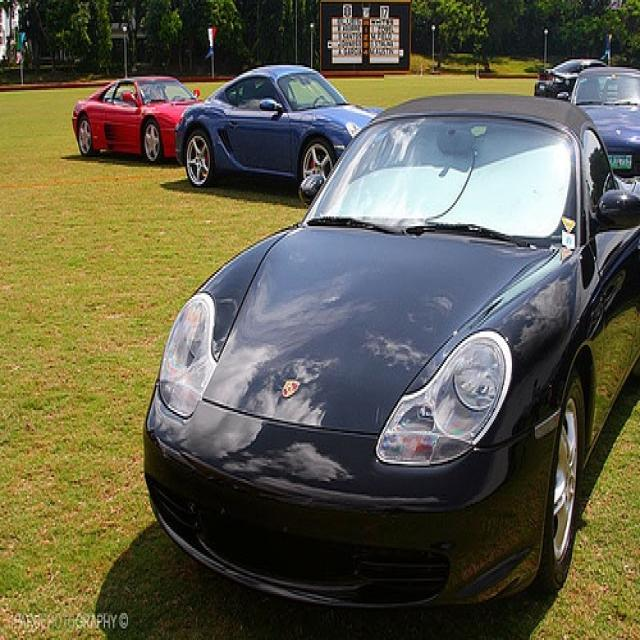car: (141, 92, 639, 613), (173, 61, 385, 196), (70, 75, 206, 161), (573, 66, 639, 174), (531, 56, 609, 100)
